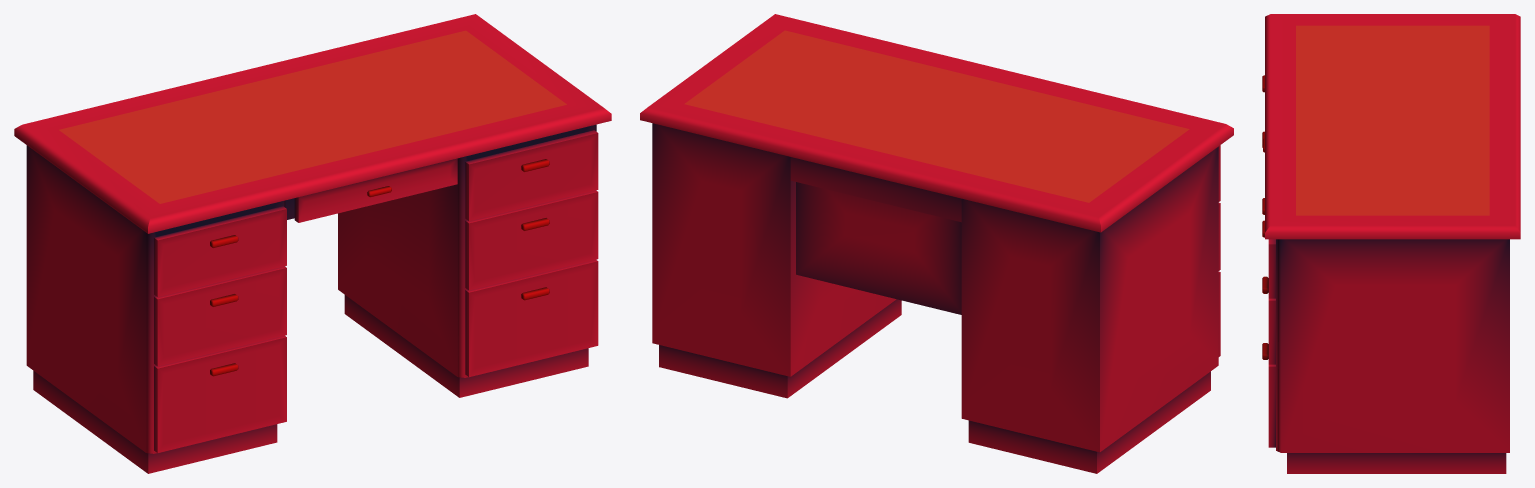
Rendered from CI_Office_Desk_Pedestal.glb.
3 renders of one model, left to right at view 1: azimuth 30°, elevation 25°; view 2: azimuth 150°, elevation 25°; view 3: azimuth 270°, elevation 25°, orthographic. The views are drawn at different scales.
Visible parts, largest first — view 1: CI_Office_Desk_Pedestal; view 2: CI_Office_Desk_Pedestal; view 3: CI_Office_Desk_Pedestal.
Part boxes in pixels (left/top/right/bottom): CI_Office_Desk_Pedestal: left=14, top=14, right=611, bottom=473; CI_Office_Desk_Pedestal: left=640, top=14, right=1233, bottom=473; CI_Office_Desk_Pedestal: left=1262, top=14, right=1520, bottom=473.
Size of the model in its own units: 1.4 by 0.76 by 0.708.
